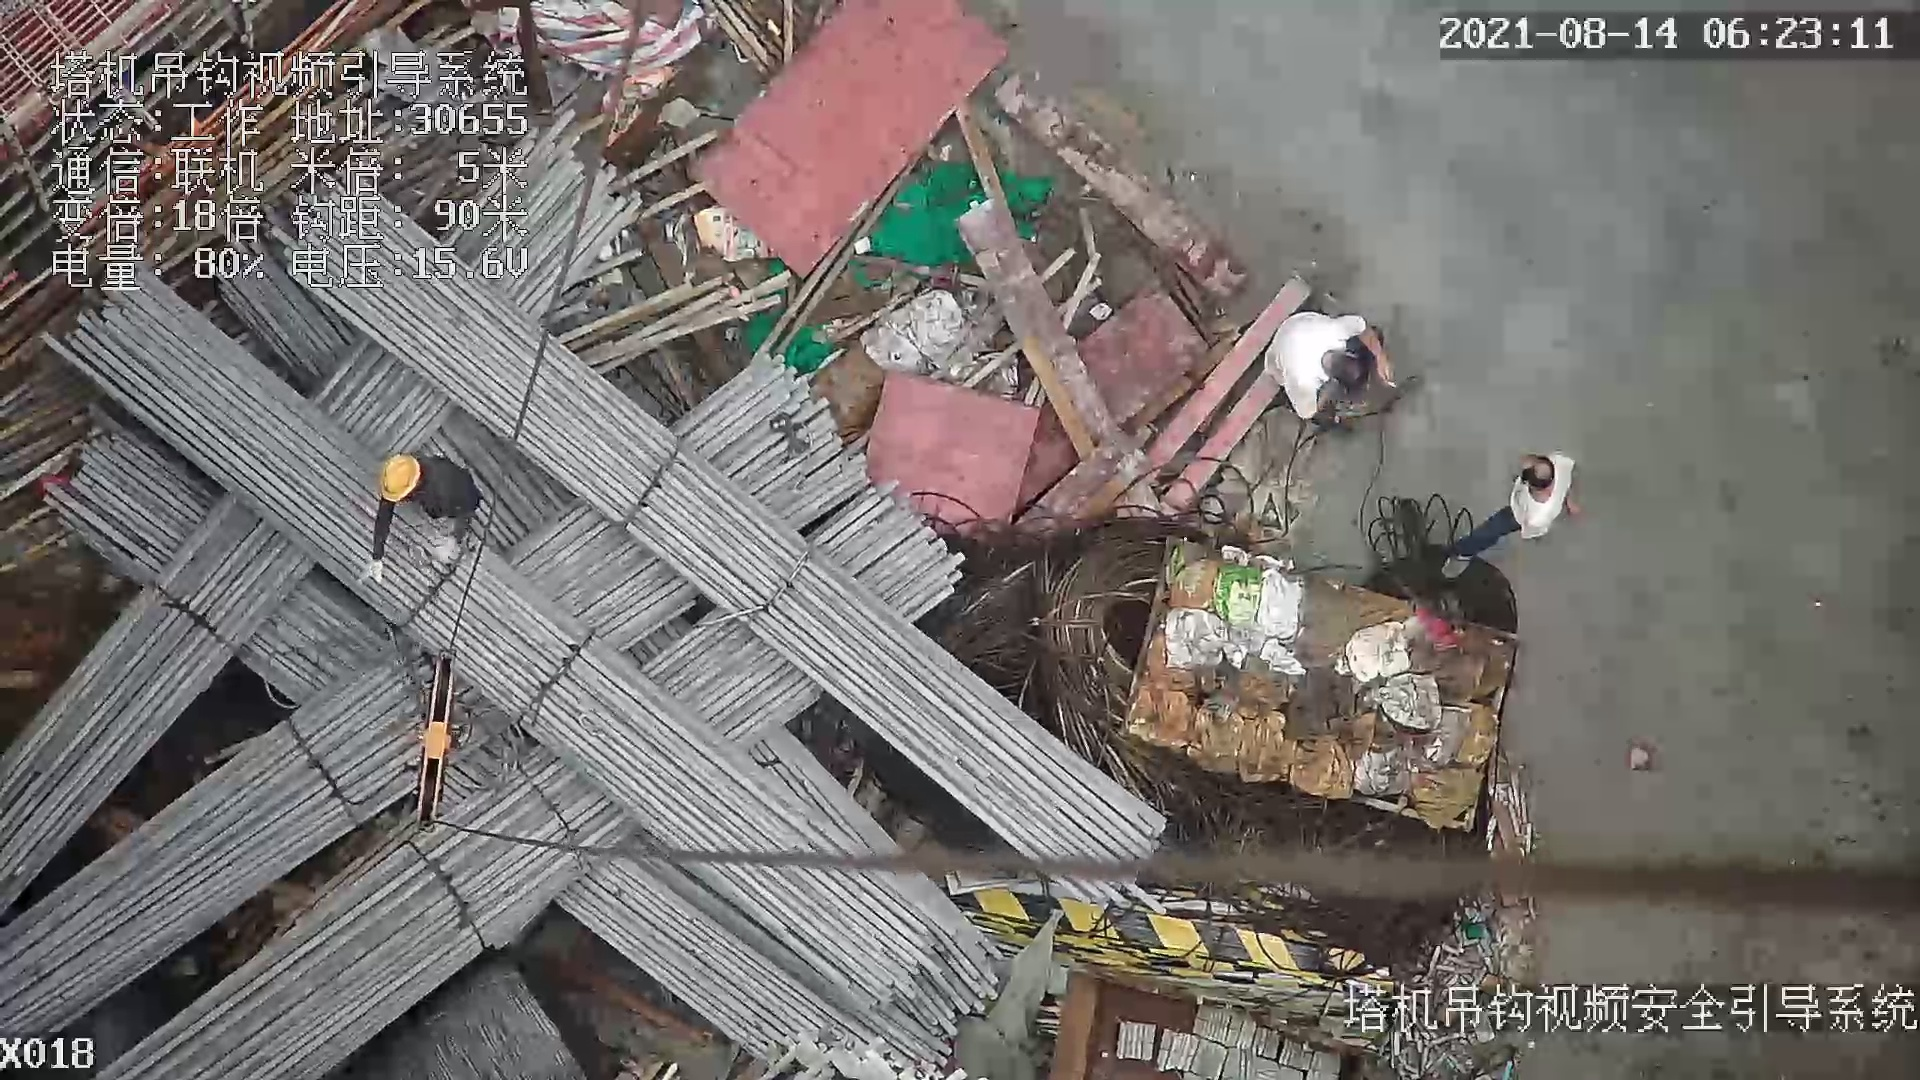board: (675, 1, 1019, 278)
helmet: (371, 450, 428, 506)
hook: (409, 639, 450, 833)
person: (1442, 439, 1585, 583), (1251, 300, 1397, 432), (354, 450, 478, 580)
